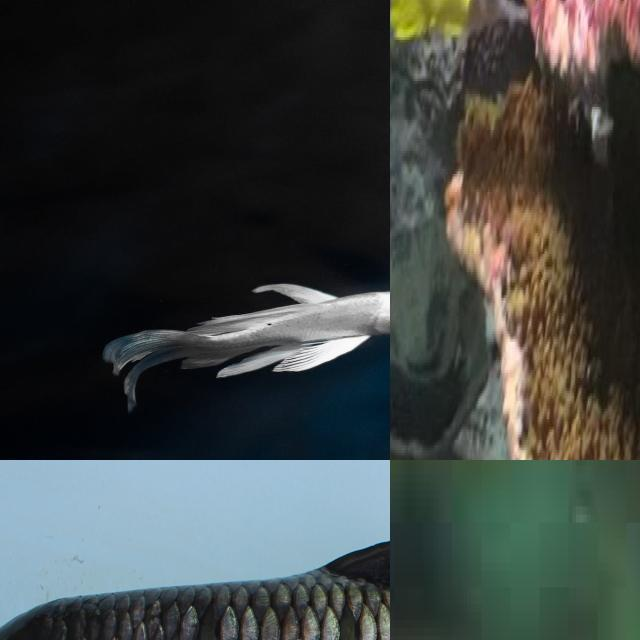fish: (0, 0, 390, 460), (0, 460, 390, 640)
